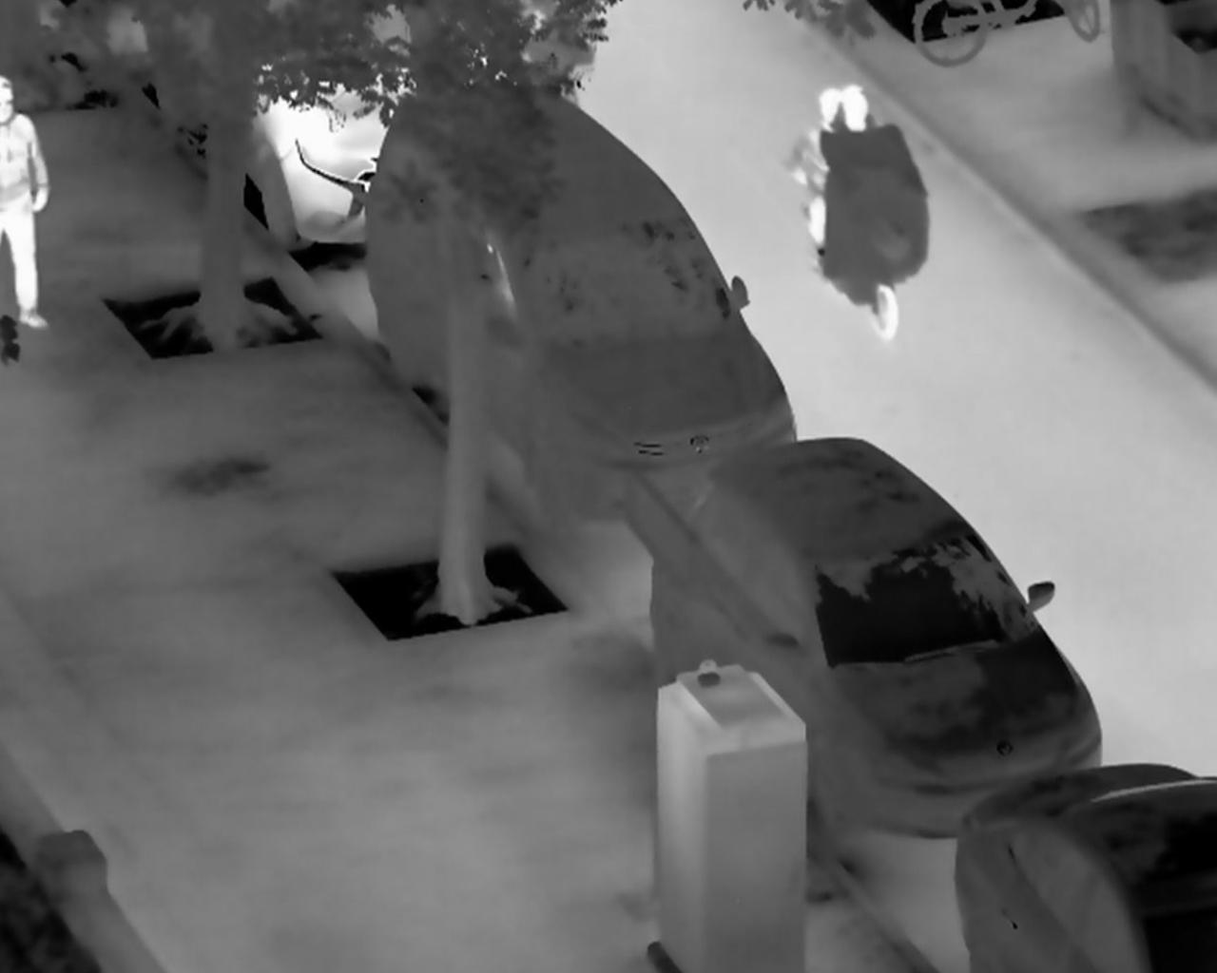person: (802, 76, 927, 251), (790, 85, 843, 193)
